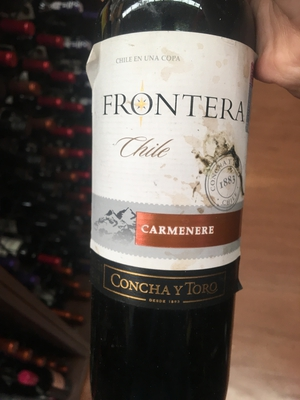frontera carmenere: (79, 15, 269, 372)
